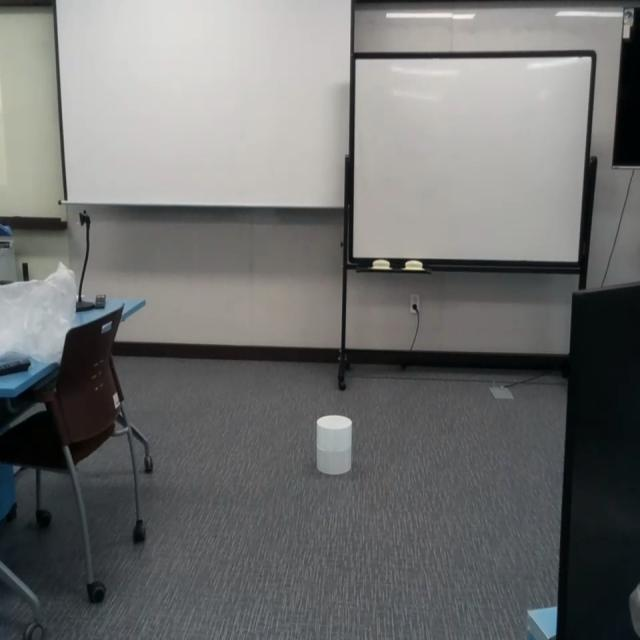cylinder: (316, 415, 353, 476)
